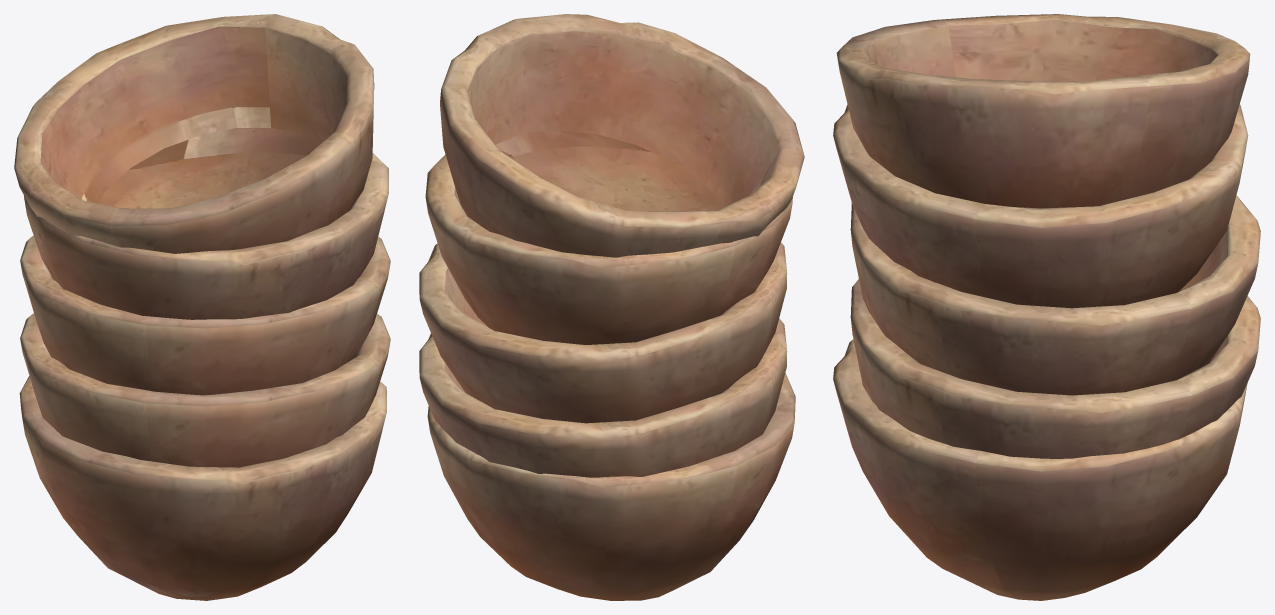
3 views of the same model, side by side, from view 1: azimuth 30°, elevation 25°; view 2: azimuth 150°, elevation 25°; view 3: azimuth 270°, elevation 25° (orthographic). The views are drawn at different scales.
Visible parts, largest first — view 1: SM_Dec_Clay_Bowl_Stack_LOD0; view 2: SM_Dec_Clay_Bowl_Stack_LOD0; view 3: SM_Dec_Clay_Bowl_Stack_LOD0.
Boxes of the visible parts, bbox=[...] form: SM_Dec_Clay_Bowl_Stack_LOD0: bbox=[14, 14, 390, 600]; SM_Dec_Clay_Bowl_Stack_LOD0: bbox=[419, 14, 804, 600]; SM_Dec_Clay_Bowl_Stack_LOD0: bbox=[833, 14, 1260, 600].
Bounding box in the file's own units: 0.3483 × 0.5144 × 0.3485.
Materials: 1 (1 with a texture image).
